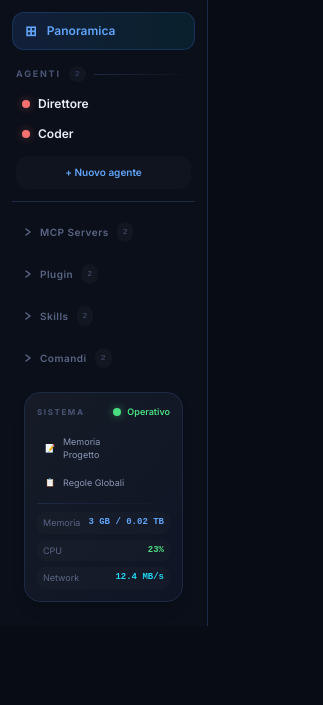
Sidebar › mostra tooltip MCP server al mouseEnter
Click the text "MCP Servers". click: [74, 232]
box: [40,224,109,240]
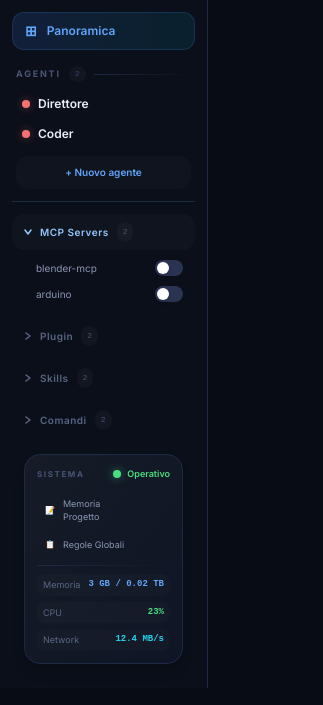
Hover over the text "blender-mcp" at [66, 268], box [36,260,97,276]
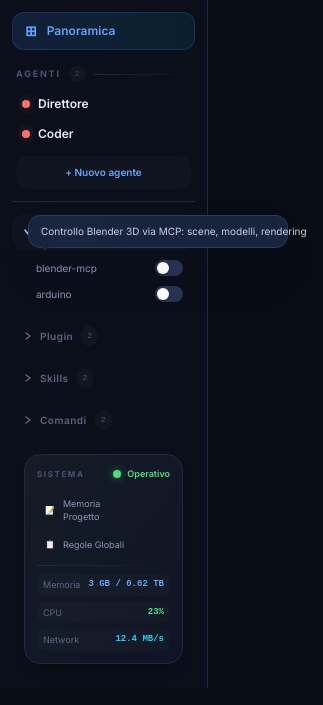
Expected: the text "Controllo Blender 3D via MCP: scene, modelli, rendering" is shown, [28,215,288,248]
